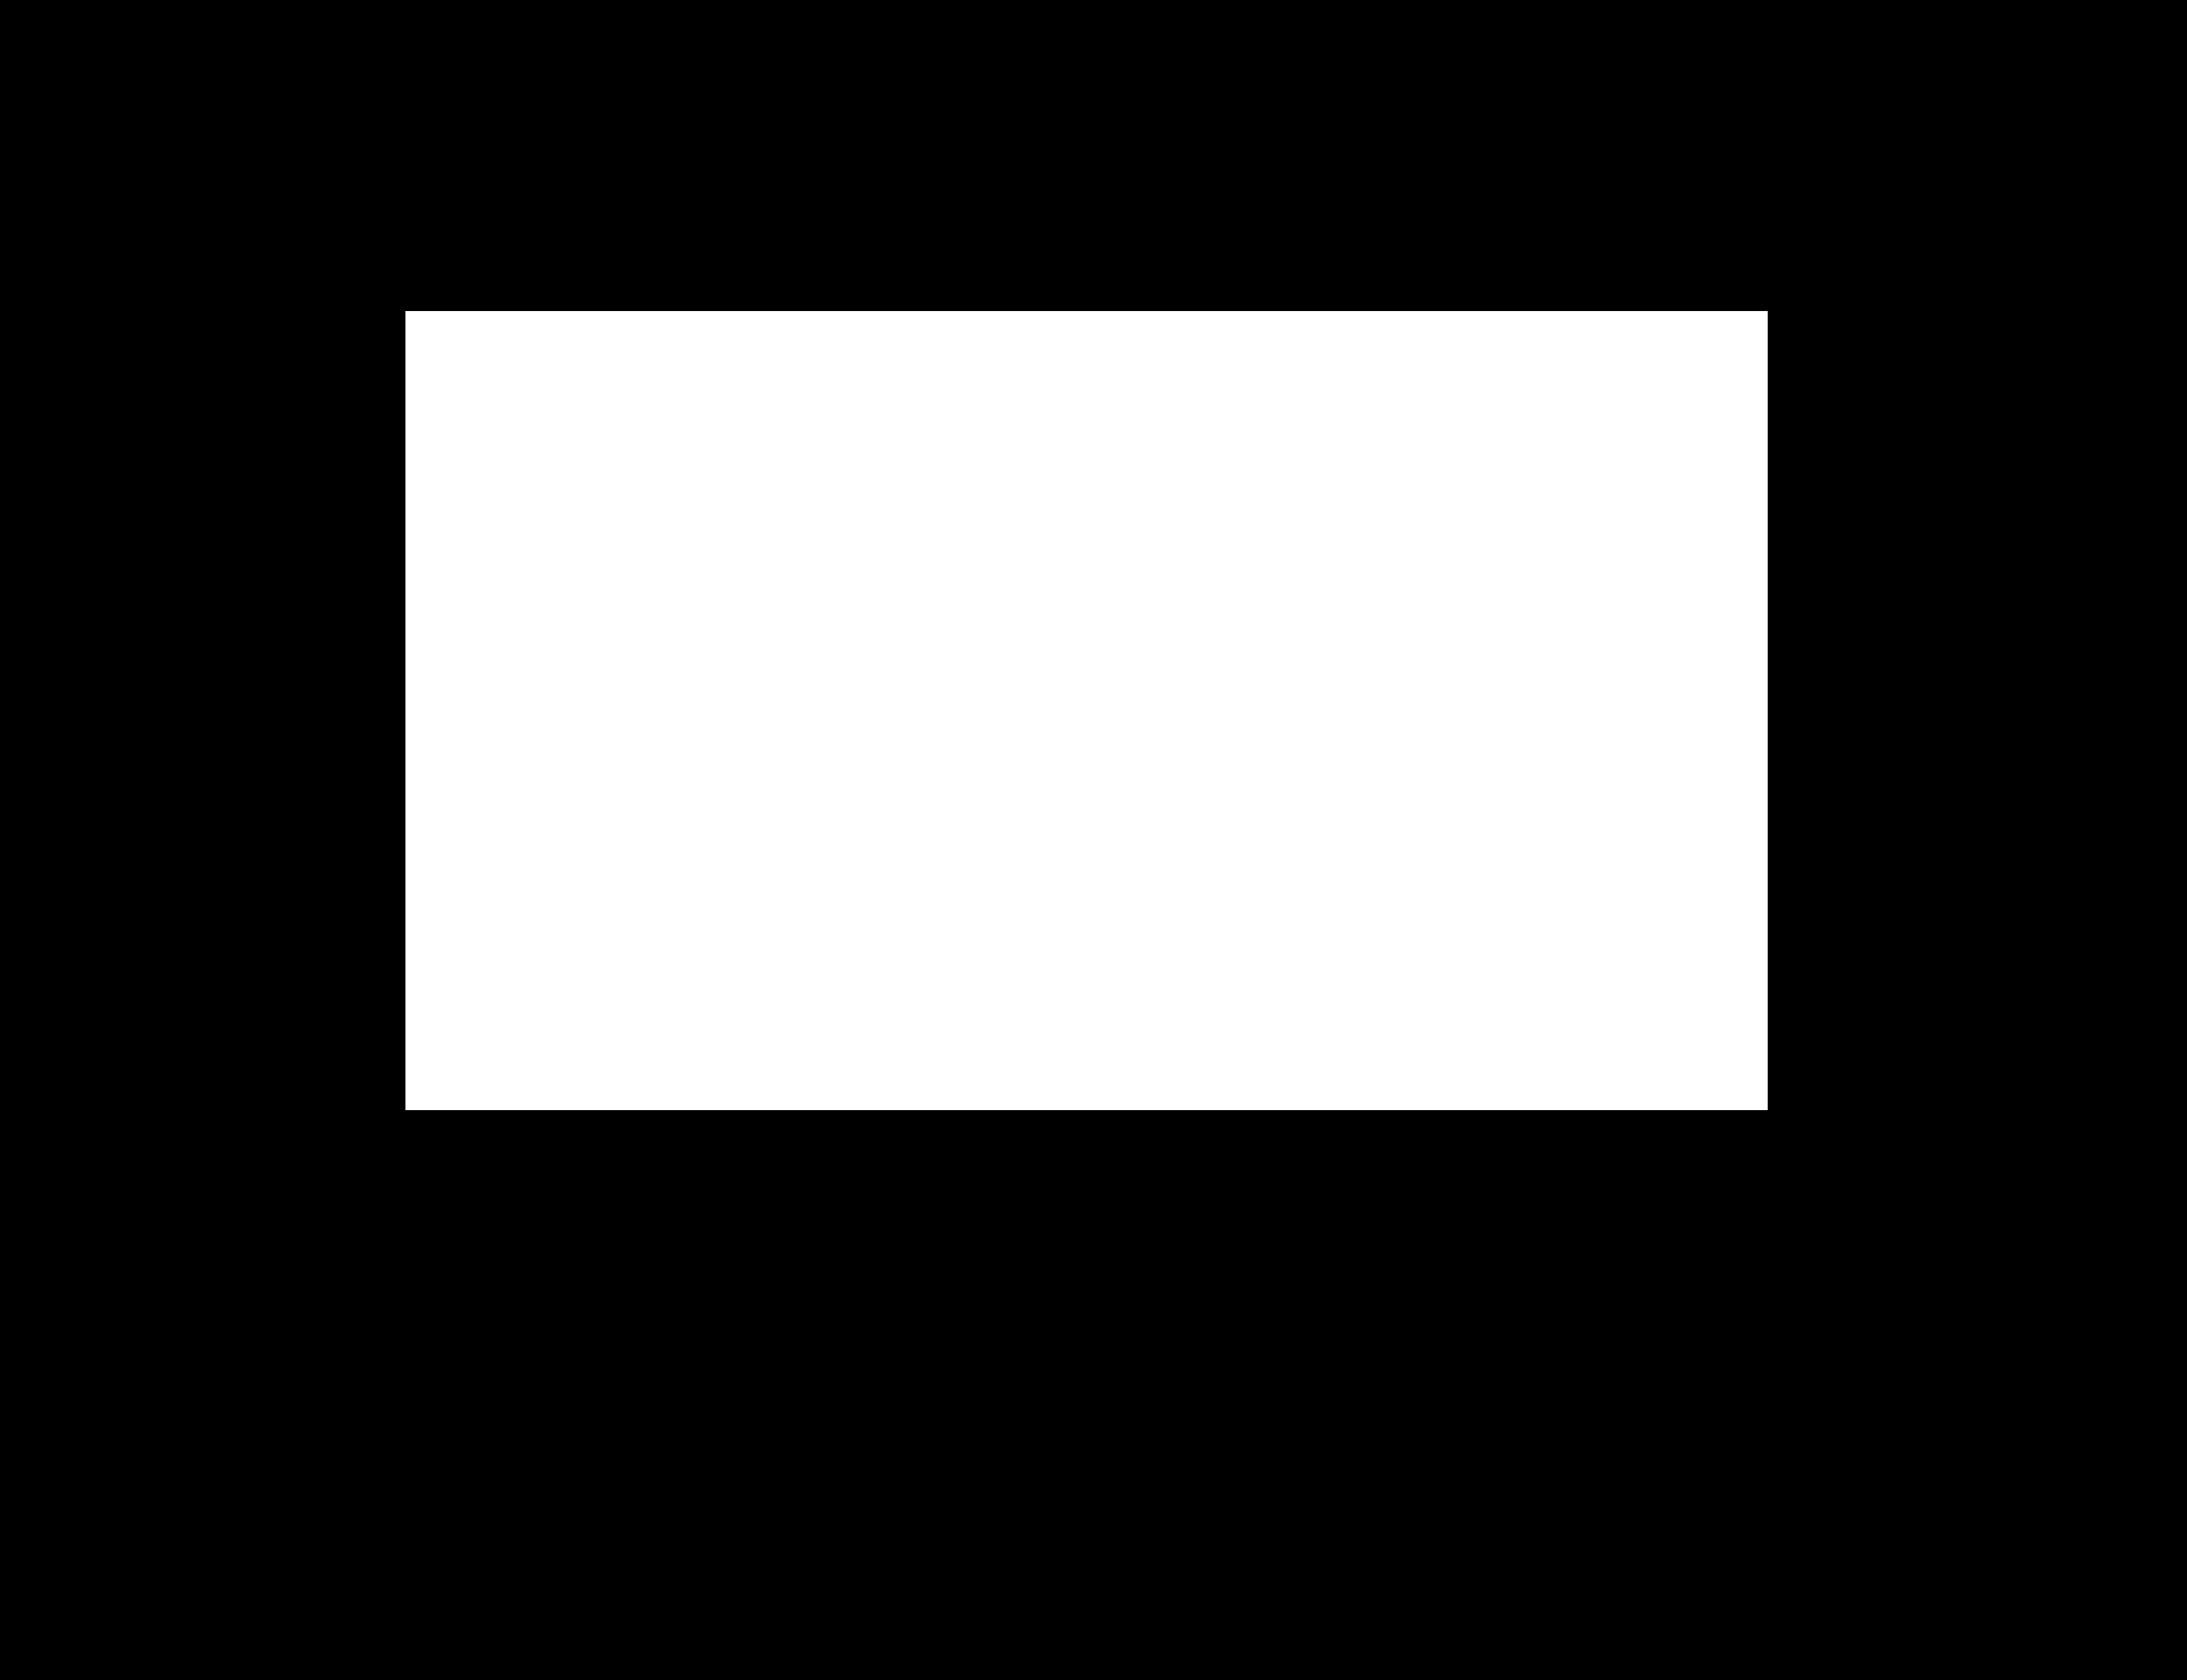table: (406, 311, 1767, 1110)
